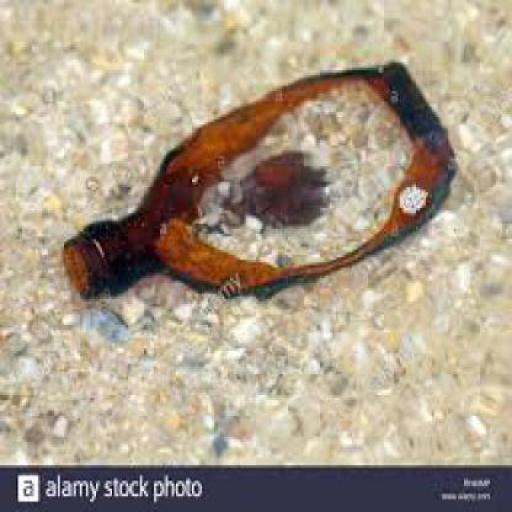glass: (62, 60, 456, 296), (236, 151, 330, 226)
